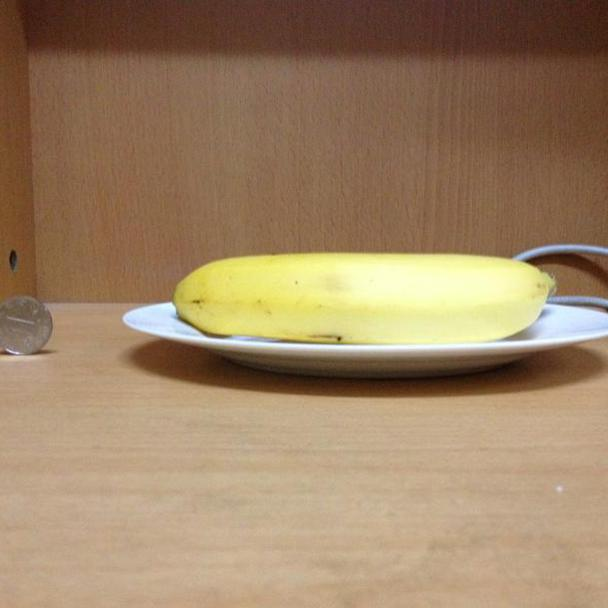banana: (173, 250, 557, 339)
